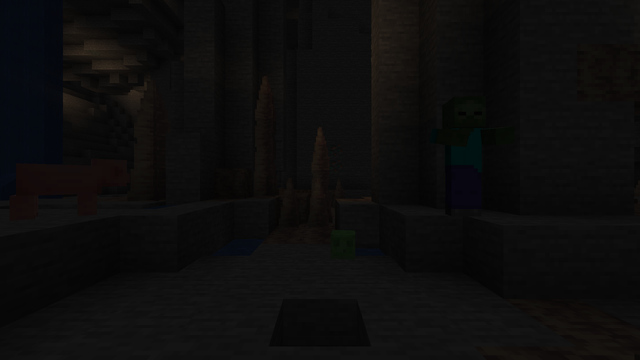cochons: (5, 162, 108, 219)
slimes: (330, 229, 356, 259)
zombies: (437, 98, 490, 217)
